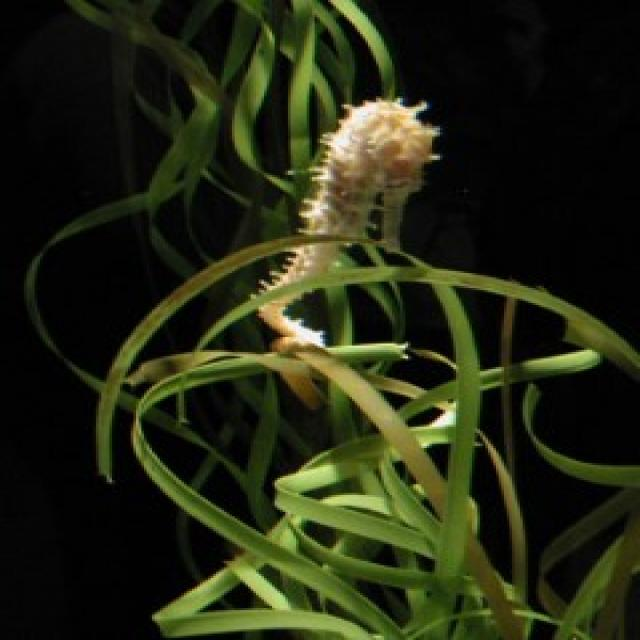Seahorse: (258, 94, 447, 308)
